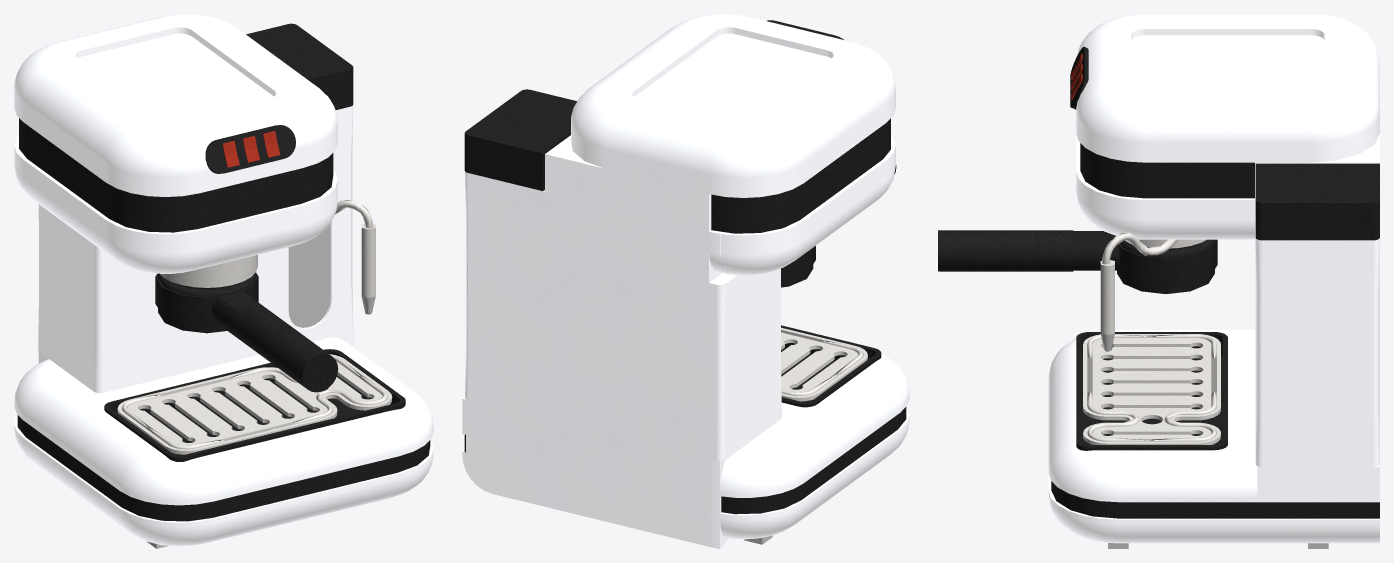
3 renders of one model, left to right at view 1: azimuth 30°, elevation 25°; view 2: azimuth 150°, elevation 25°; view 3: azimuth 270°, elevation 25°, orthographic.
Parts seen in each view (by area): view 1: Joined Solid Geometry [2765], Joined Solid Geometry [2577], Joined Solid Geometry [2744], Joined Solid Geometry [2668], Sweep [2826], Sweep [2806], Joined Solid Geometry [2889], Joined Solid Geometry [3132], Extrusion [2790], Extrusion [2953], Revolve [2855], Extrusion [3037] (+2 smaller); view 2: Joined Solid Geometry [2744], Joined Solid Geometry [2765], Joined Solid Geometry [2577], Extrusion [2790], Sweep [2826], Joined Solid Geometry [2668], Sweep [2806], Joined Solid Geometry [3132], Revolve [2855]; view 3: Joined Solid Geometry [2765], Joined Solid Geometry [2577], Joined Solid Geometry [2744], Joined Solid Geometry [2668], Extrusion [2790], Joined Solid Geometry [2889], Sweep [2826], Sweep [2806], Revolve [2855], Joined Solid Geometry [3132], Revolve [2970], Sweep [2938] (+1 smaller).
Part boxes in pixels (x1,y1,x2,y2): Joined Solid Geometry [2765]: (14,14,337,273); Joined Solid Geometry [2577]: (14,329,433,545); Joined Solid Geometry [2744]: (38,105,353,393); Joined Solid Geometry [2668]: (117,354,392,454); Sweep [2826]: (19,118,333,232); Sweep [2806]: (17,415,430,521); Joined Solid Geometry [2889]: (212,287,338,392); Joined Solid Geometry [3132]: (104,349,405,461); Extrusion [2790]: (246,23,353,109); Extrusion [2953]: (288,223,330,327); Revolve [2855]: (155,272,258,333); Extrusion [3037]: (205,125,295,173); Joined Solid Geometry [2744]: (465,171,781,460); Joined Solid Geometry [2765]: (545,14,895,282); Joined Solid Geometry [2577]: (462,353,909,548); Extrusion [2790]: (464,89,576,190); Sweep [2826]: (711,118,890,233); Joined Solid Geometry [2668]: (781,327,867,401); Sweep [2806]: (464,407,906,514); Joined Solid Geometry [3132]: (781,325,881,407); Revolve [2855]: (781,245,815,287); Joined Solid Geometry [2765]: (1076,14,1379,251); Joined Solid Geometry [2577]: (1048,329,1379,543); Joined Solid Geometry [2744]: (1255,238,1379,466); Joined Solid Geometry [2668]: (1083,334,1220,444); Extrusion [2790]: (1255,163,1379,240); Joined Solid Geometry [2889]: (938,230,1119,271); Sweep [2826]: (1080,143,1254,198); Sweep [2806]: (1051,481,1379,518); Revolve [2855]: (1117,239,1217,293); Joined Solid Geometry [3132]: (1076,332,1227,450); Revolve [2970]: (1100,260,1114,351); Sweep [2938]: (1102,232,1177,264).
Size of the model in its own units: 0.513 by 0.6615 by 0.6414.
Materials: 6 (5 with a texture image).
